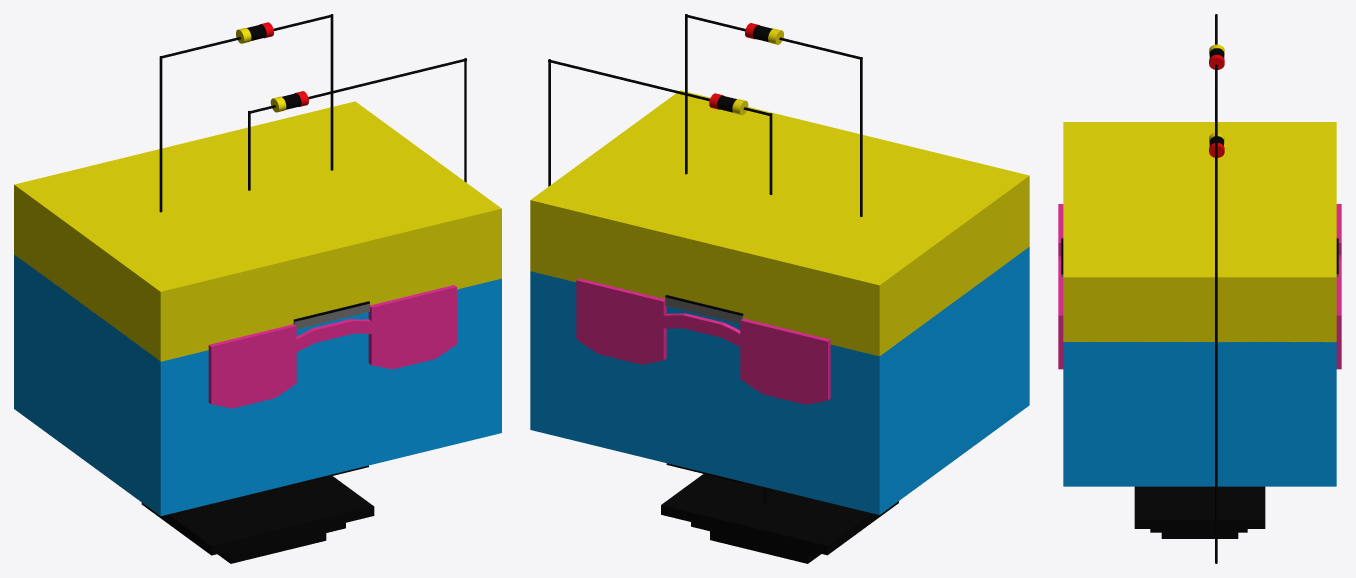
Rendered from MOSFET.fbx.
3 views of the same model, side by side, from view 1: azimuth 30°, elevation 25°; view 2: azimuth 150°, elevation 25°; view 3: azimuth 270°, elevation 25° (orthographic). The views are drawn at different scales.
Parts seen in each view (by area): view 1: Cover, Body, Terminals, Source.001, Source, Wires, Channel; view 2: Cover, Body, Terminals, Source.001, Source, Wires, Channel; view 3: Cover, Body, Terminals, Wires, Source, Source.001, DS-Cell.
Part boxes in pixels (x1=…): Cover: x1=14, y1=101, x2=501, y2=361; Body: x1=14, y1=255, x2=501, y2=516; Terminals: x1=141, y1=301, x2=374, y2=563; Source.001: x1=208, y1=324, x2=296, y2=408; Source: x1=368, y1=285, x2=456, y2=369; Wires: x1=159, y1=14, x2=466, y2=212; Channel: x1=296, y1=319, x2=371, y2=351; Cover: x1=530, y1=90, x2=1029, y2=356; Body: x1=530, y1=247, x2=1029, y2=514; Terminals: x1=661, y1=295, x2=898, y2=563; Source.001: x1=740, y1=318, x2=830, y2=404; Source: x1=576, y1=278, x2=666, y2=364; Wires: x1=548, y1=14, x2=862, y2=504; Channel: x1=663, y1=313, x2=740, y2=346; Cover: x1=1063, y1=122, x2=1336, y2=342; Body: x1=1063, y1=342, x2=1336, y2=486; Terminals: x1=1061, y1=238, x2=1338, y2=538; Wires: x1=1215, y1=14, x2=1217, y2=563; Source: x1=1058, y1=277, x2=1341, y2=369; Source.001: x1=1058, y1=204, x2=1341, y2=255; DS-Cell: x1=1209, y1=44, x2=1224, y2=69.
Size of the model in its own units: 306 by 378 by 207.
